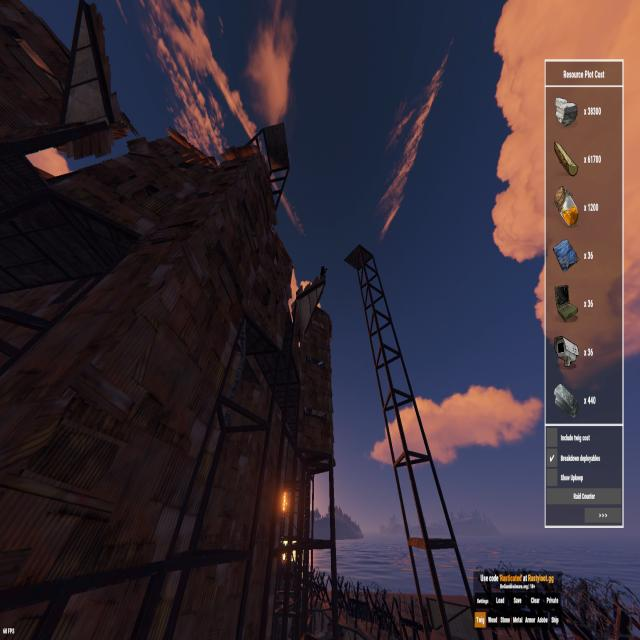Player: (320, 266, 328, 275)
